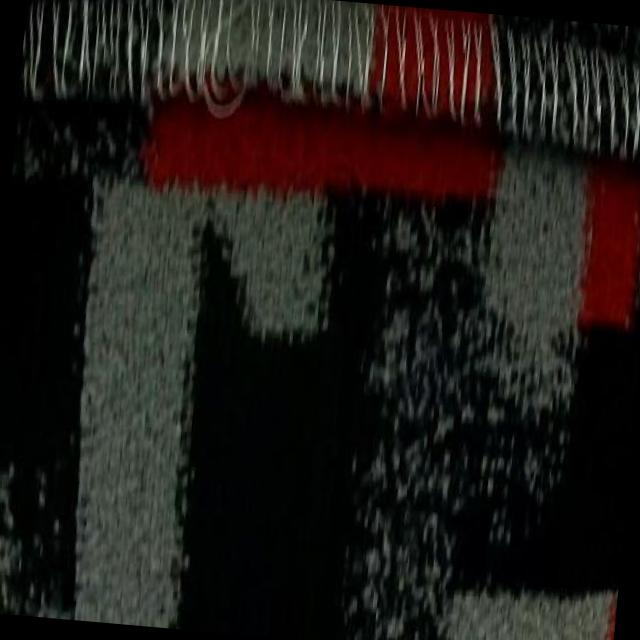gray stitch: (20, 0, 640, 163)
